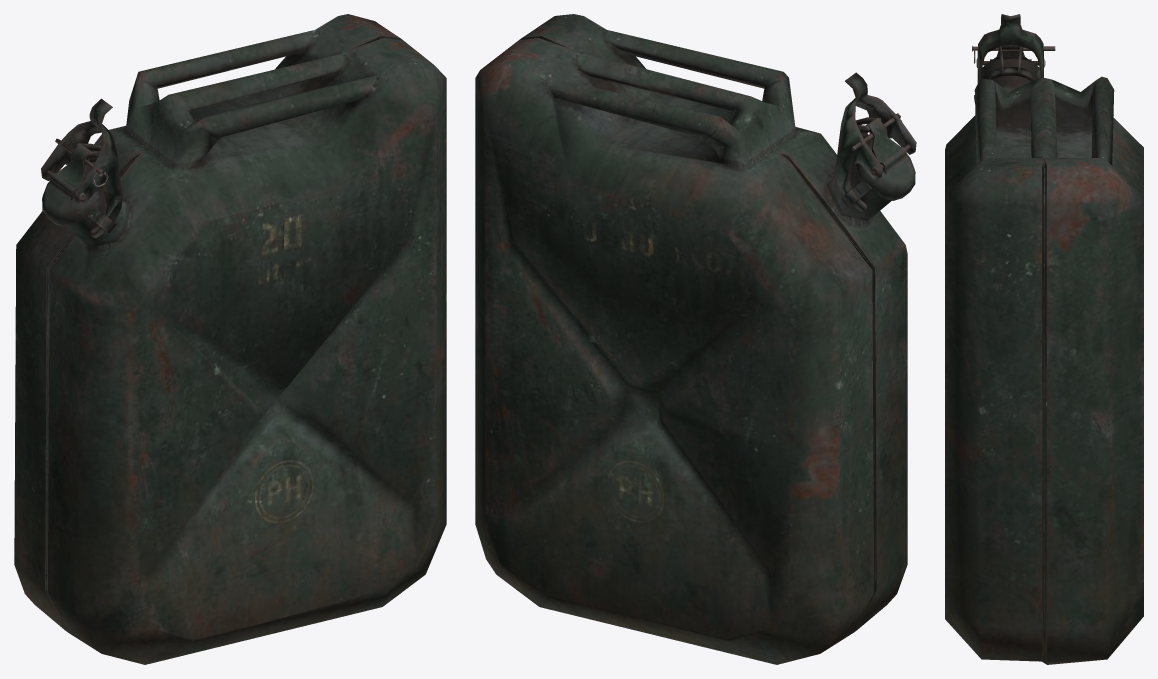
The model's file is jerrycan.glb.
The picture shows the model from 3 angles, left to right: view 1: azimuth 30°, elevation 25°; view 2: azimuth 150°, elevation 25°; view 3: azimuth 270°, elevation 25°; orthographic projection. The views are drawn at different scales.
Parts seen in each view (by area): view 1: metal_jerrycan_green_body, metal_jerrycan_green_latch, metal_jerrycan_green_cap; view 2: metal_jerrycan_green_body, metal_jerrycan_green_latch, metal_jerrycan_green_cap; view 3: metal_jerrycan_green_body, metal_jerrycan_green_latch, metal_jerrycan_green_cap, metal_jerrycan_green_fastener.
Part boxes in pixels (box(x1,y1,x2,y2)): metal_jerrycan_green_body: box(14, 14, 446, 664); metal_jerrycan_green_latch: box(41, 98, 122, 238); metal_jerrycan_green_cap: box(42, 145, 101, 226); metal_jerrycan_green_body: box(475, 14, 907, 664); metal_jerrycan_green_latch: box(834, 72, 916, 211); metal_jerrycan_green_cap: box(856, 118, 915, 200); metal_jerrycan_green_body: box(945, 75, 1143, 664); metal_jerrycan_green_latch: box(976, 14, 1045, 83); metal_jerrycan_green_cap: box(980, 44, 1040, 81); metal_jerrycan_green_fastener: box(989, 46, 1032, 80).
Bounding box in the file's own units: 0.3604 × 0.4998 × 0.1709.
Materials: 1 (1 with a texture image).
